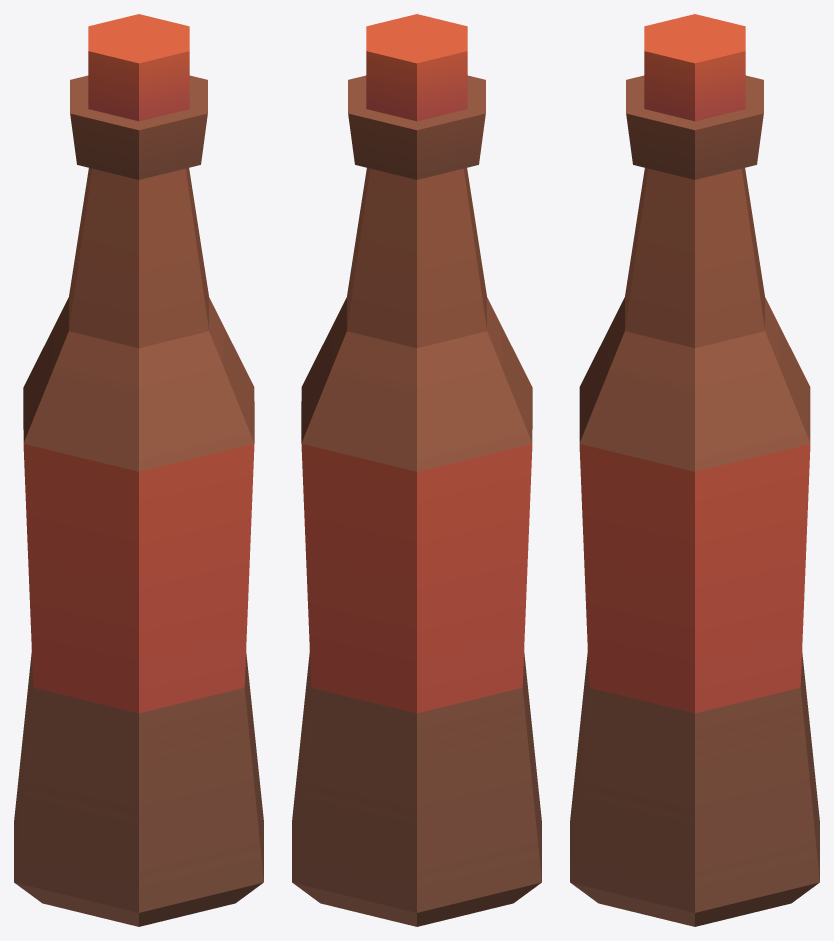
The model's file is PlasticSodaBottle.obj.
3 renders of one model, left to right at view 1: azimuth 30°, elevation 25°; view 2: azimuth 150°, elevation 25°; view 3: azimuth 270°, elevation 25°, orthographic.
Parts seen in each view (by area): view 1: soda_bottle; view 2: soda_bottle; view 3: soda_bottle.
Part boxes in pixels (x1,y1,x2,y2): soda_bottle: [14, 14, 263, 926]; soda_bottle: [292, 14, 541, 926]; soda_bottle: [570, 14, 819, 926].
Bounding box in the file's own units: 0.0632 × 0.2031 × 0.0547.
1 material, 1 textured.
